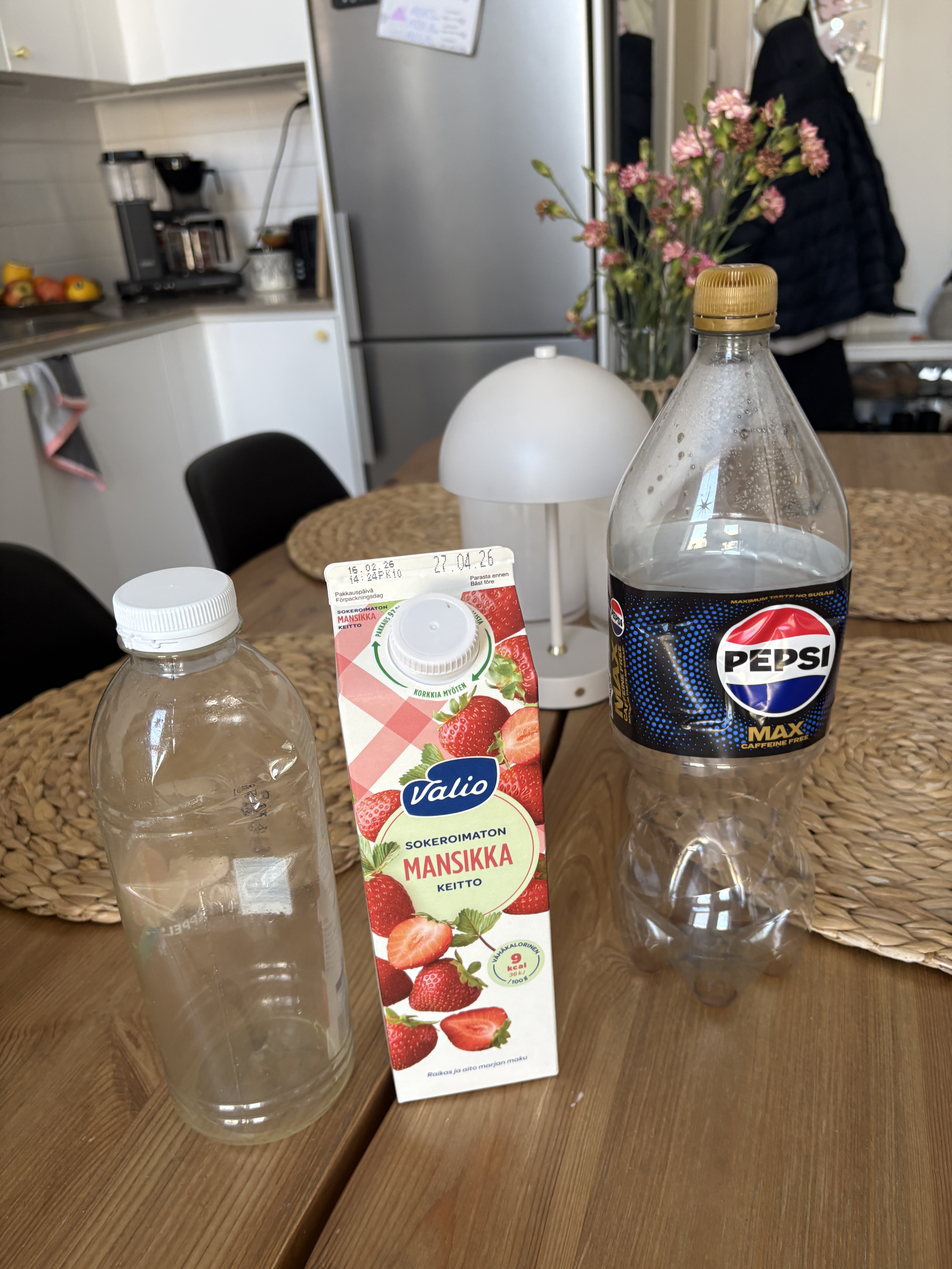Pantburk: (602, 258, 856, 1017), (35, 583, 304, 1164), (321, 566, 529, 1122)
